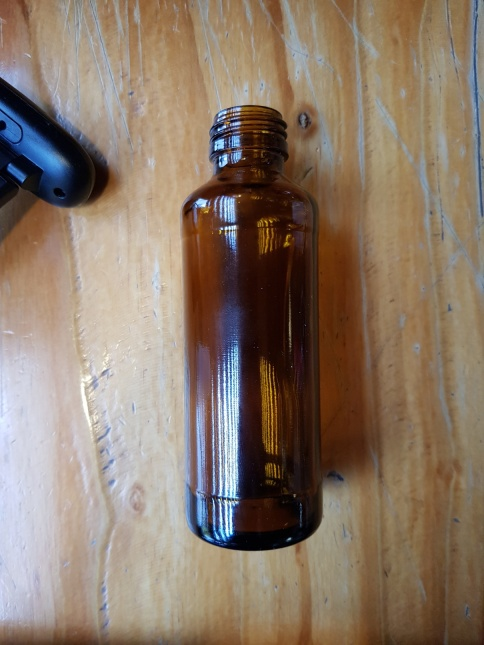Glass: (175, 104, 328, 555)
